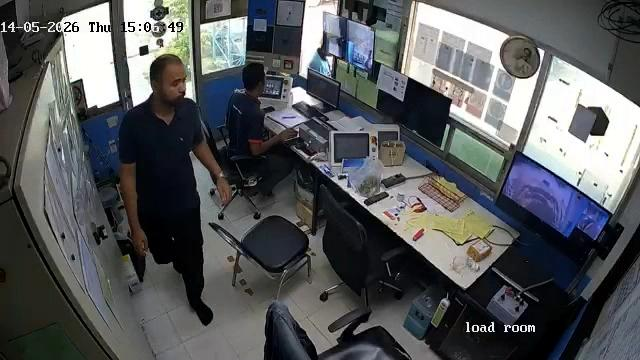Head: (148, 53, 190, 107), (240, 63, 269, 97)
People: (116, 54, 230, 327), (226, 64, 297, 199)
Phone: (261, 106, 276, 114)
